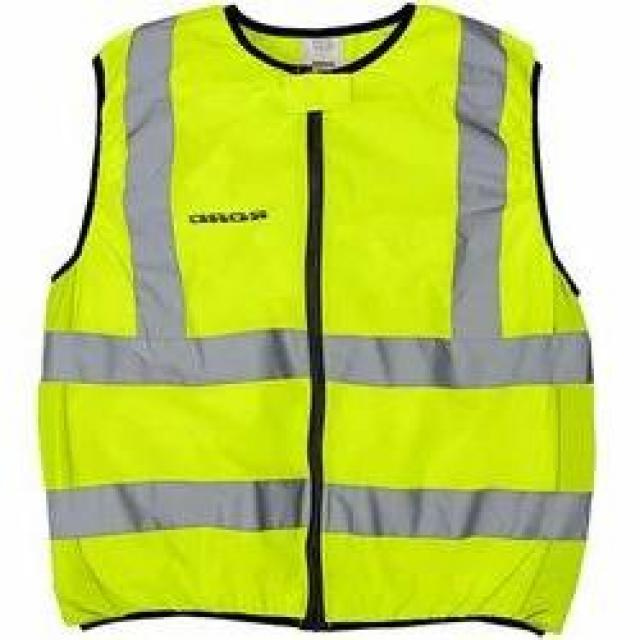reflective_jacket: (0, 7, 627, 639)
